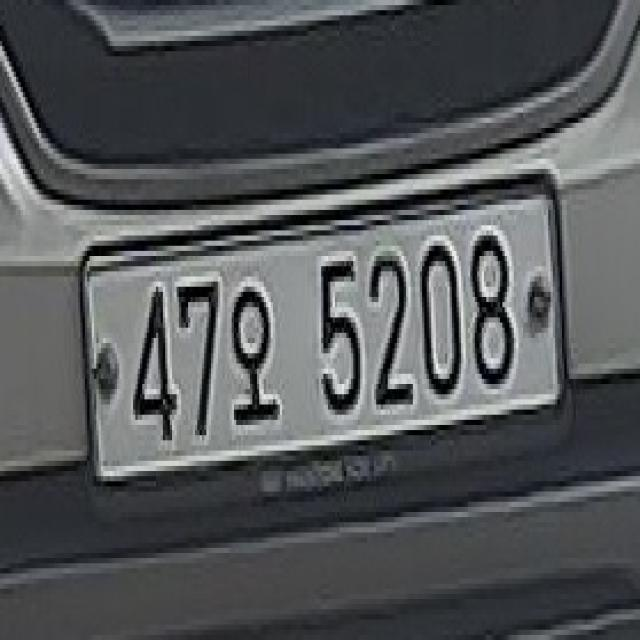plat: (79, 160, 570, 486)
